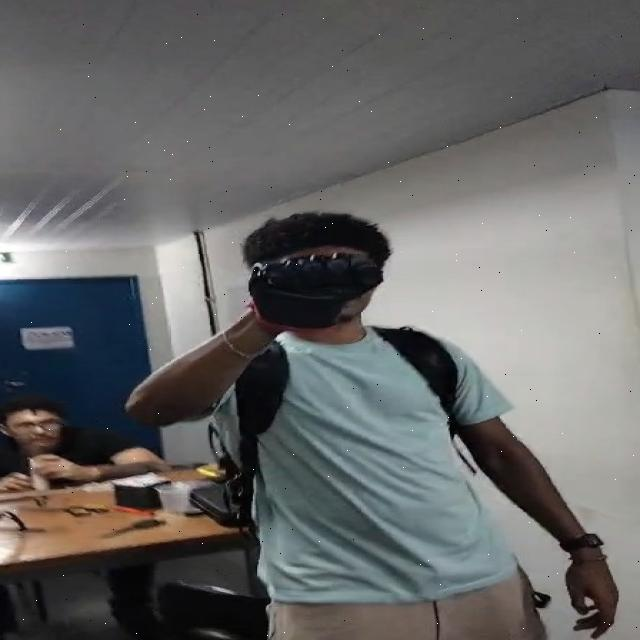Gloves: (250, 253, 385, 333)
